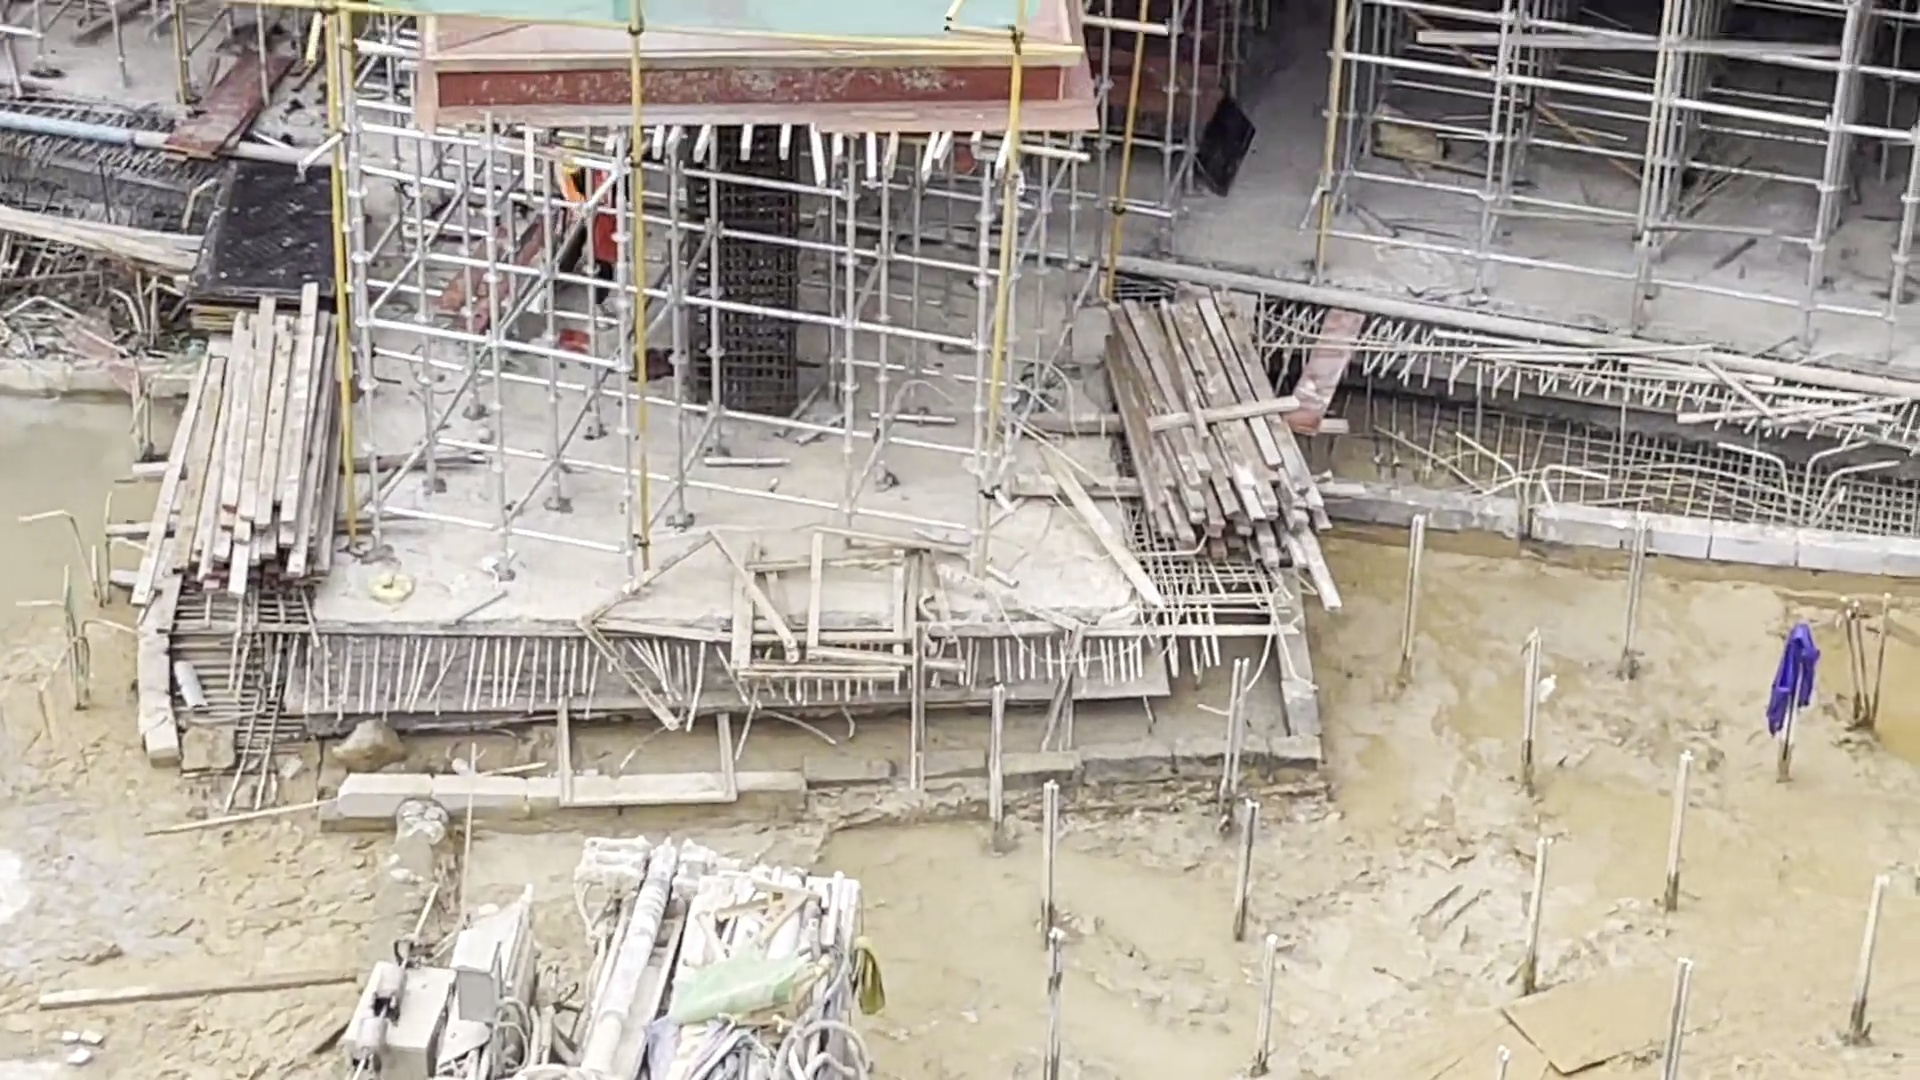board: (188, 161, 353, 332)
person: (549, 141, 628, 305)
wood: (1108, 286, 1346, 616), (118, 279, 346, 616)
